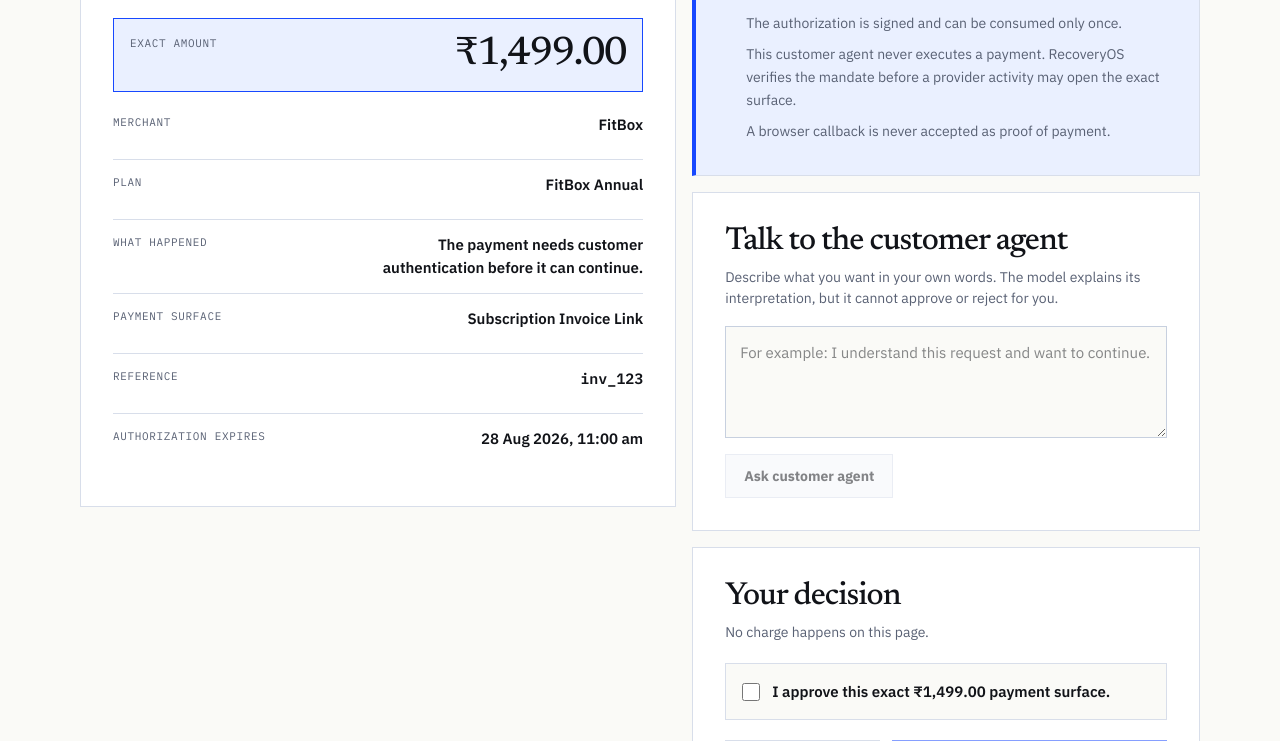
Scenario: CustomerApproval › shows model interpretation without authorizing the payment surface
(page scrolled)
Step 1. Type "Yes, I want to continue" into the text box named "Message for the customer agent" → (946, 382), box [725,326,1167,438]
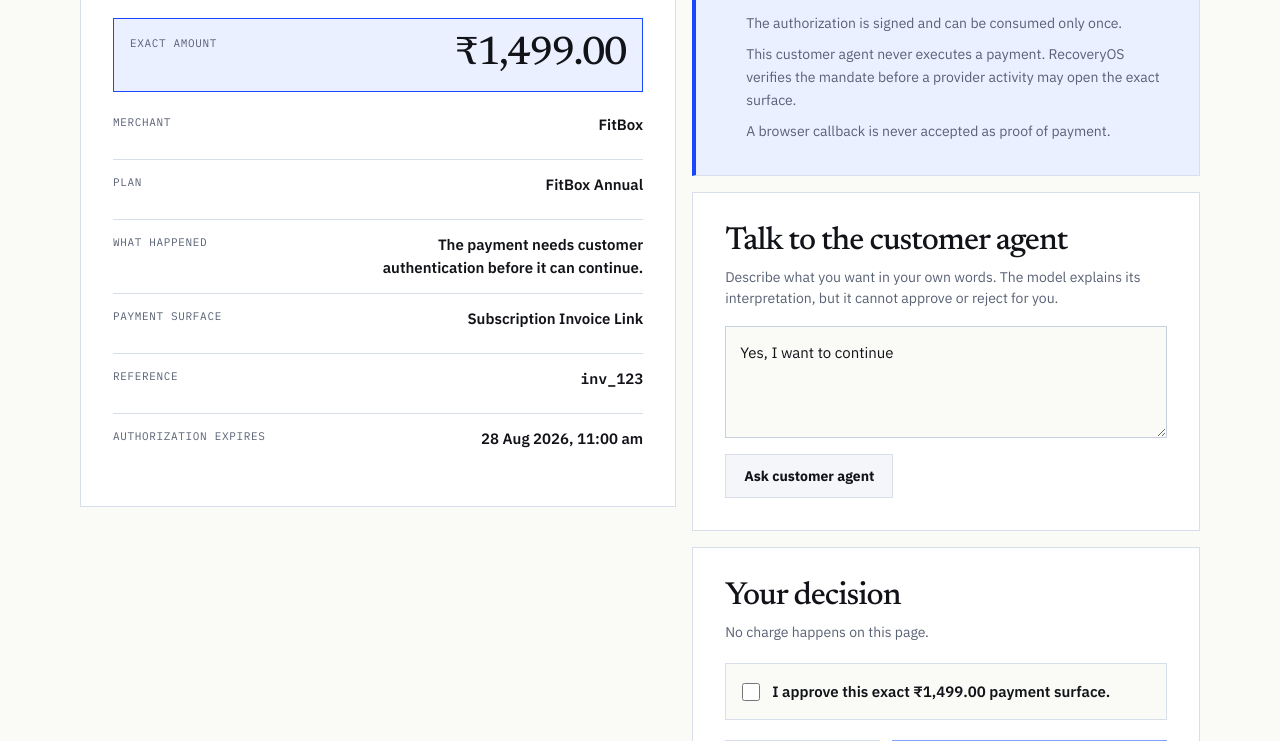
Step 2. Click the button "Ask customer agent" → (809, 476), box [725,454,894,498]
(page scrolled)
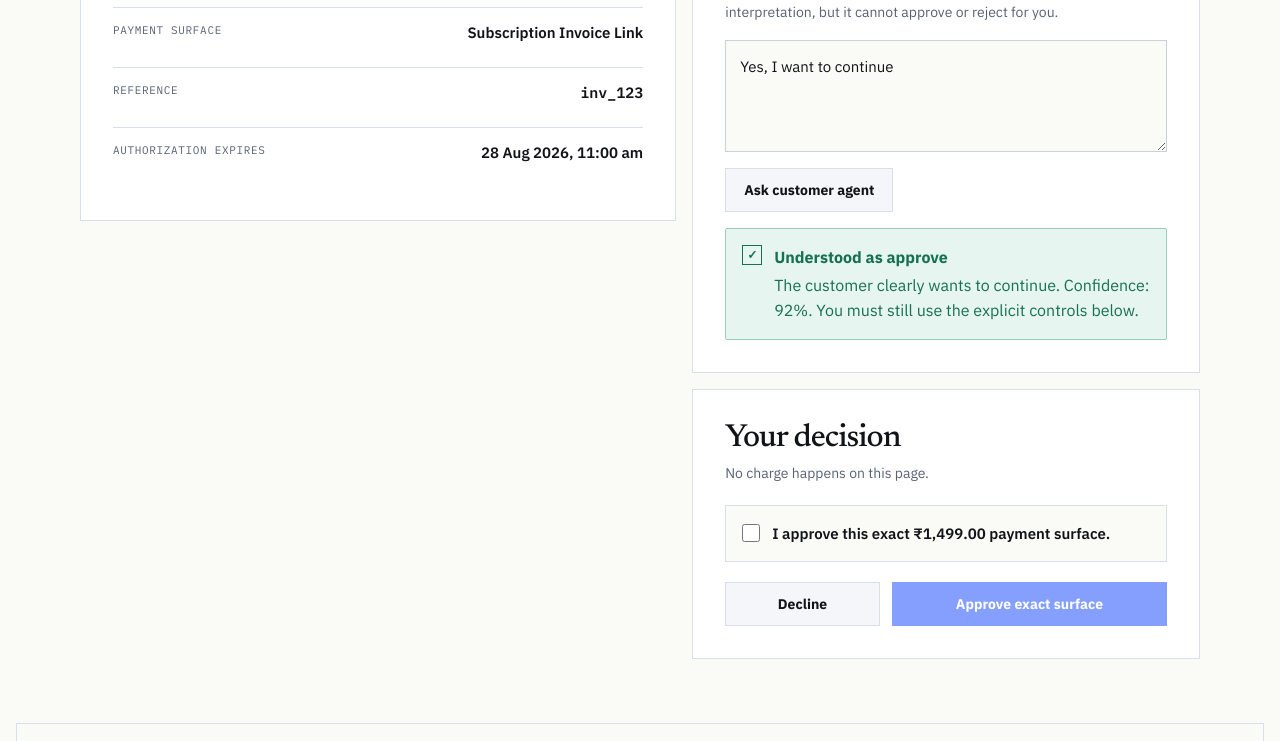
Expected: the button "Approve exact surface" is disabled, [892,582,1167,626]
Expected: the message shows "The customer clearly wants to continue", [774,275,1060,295]
